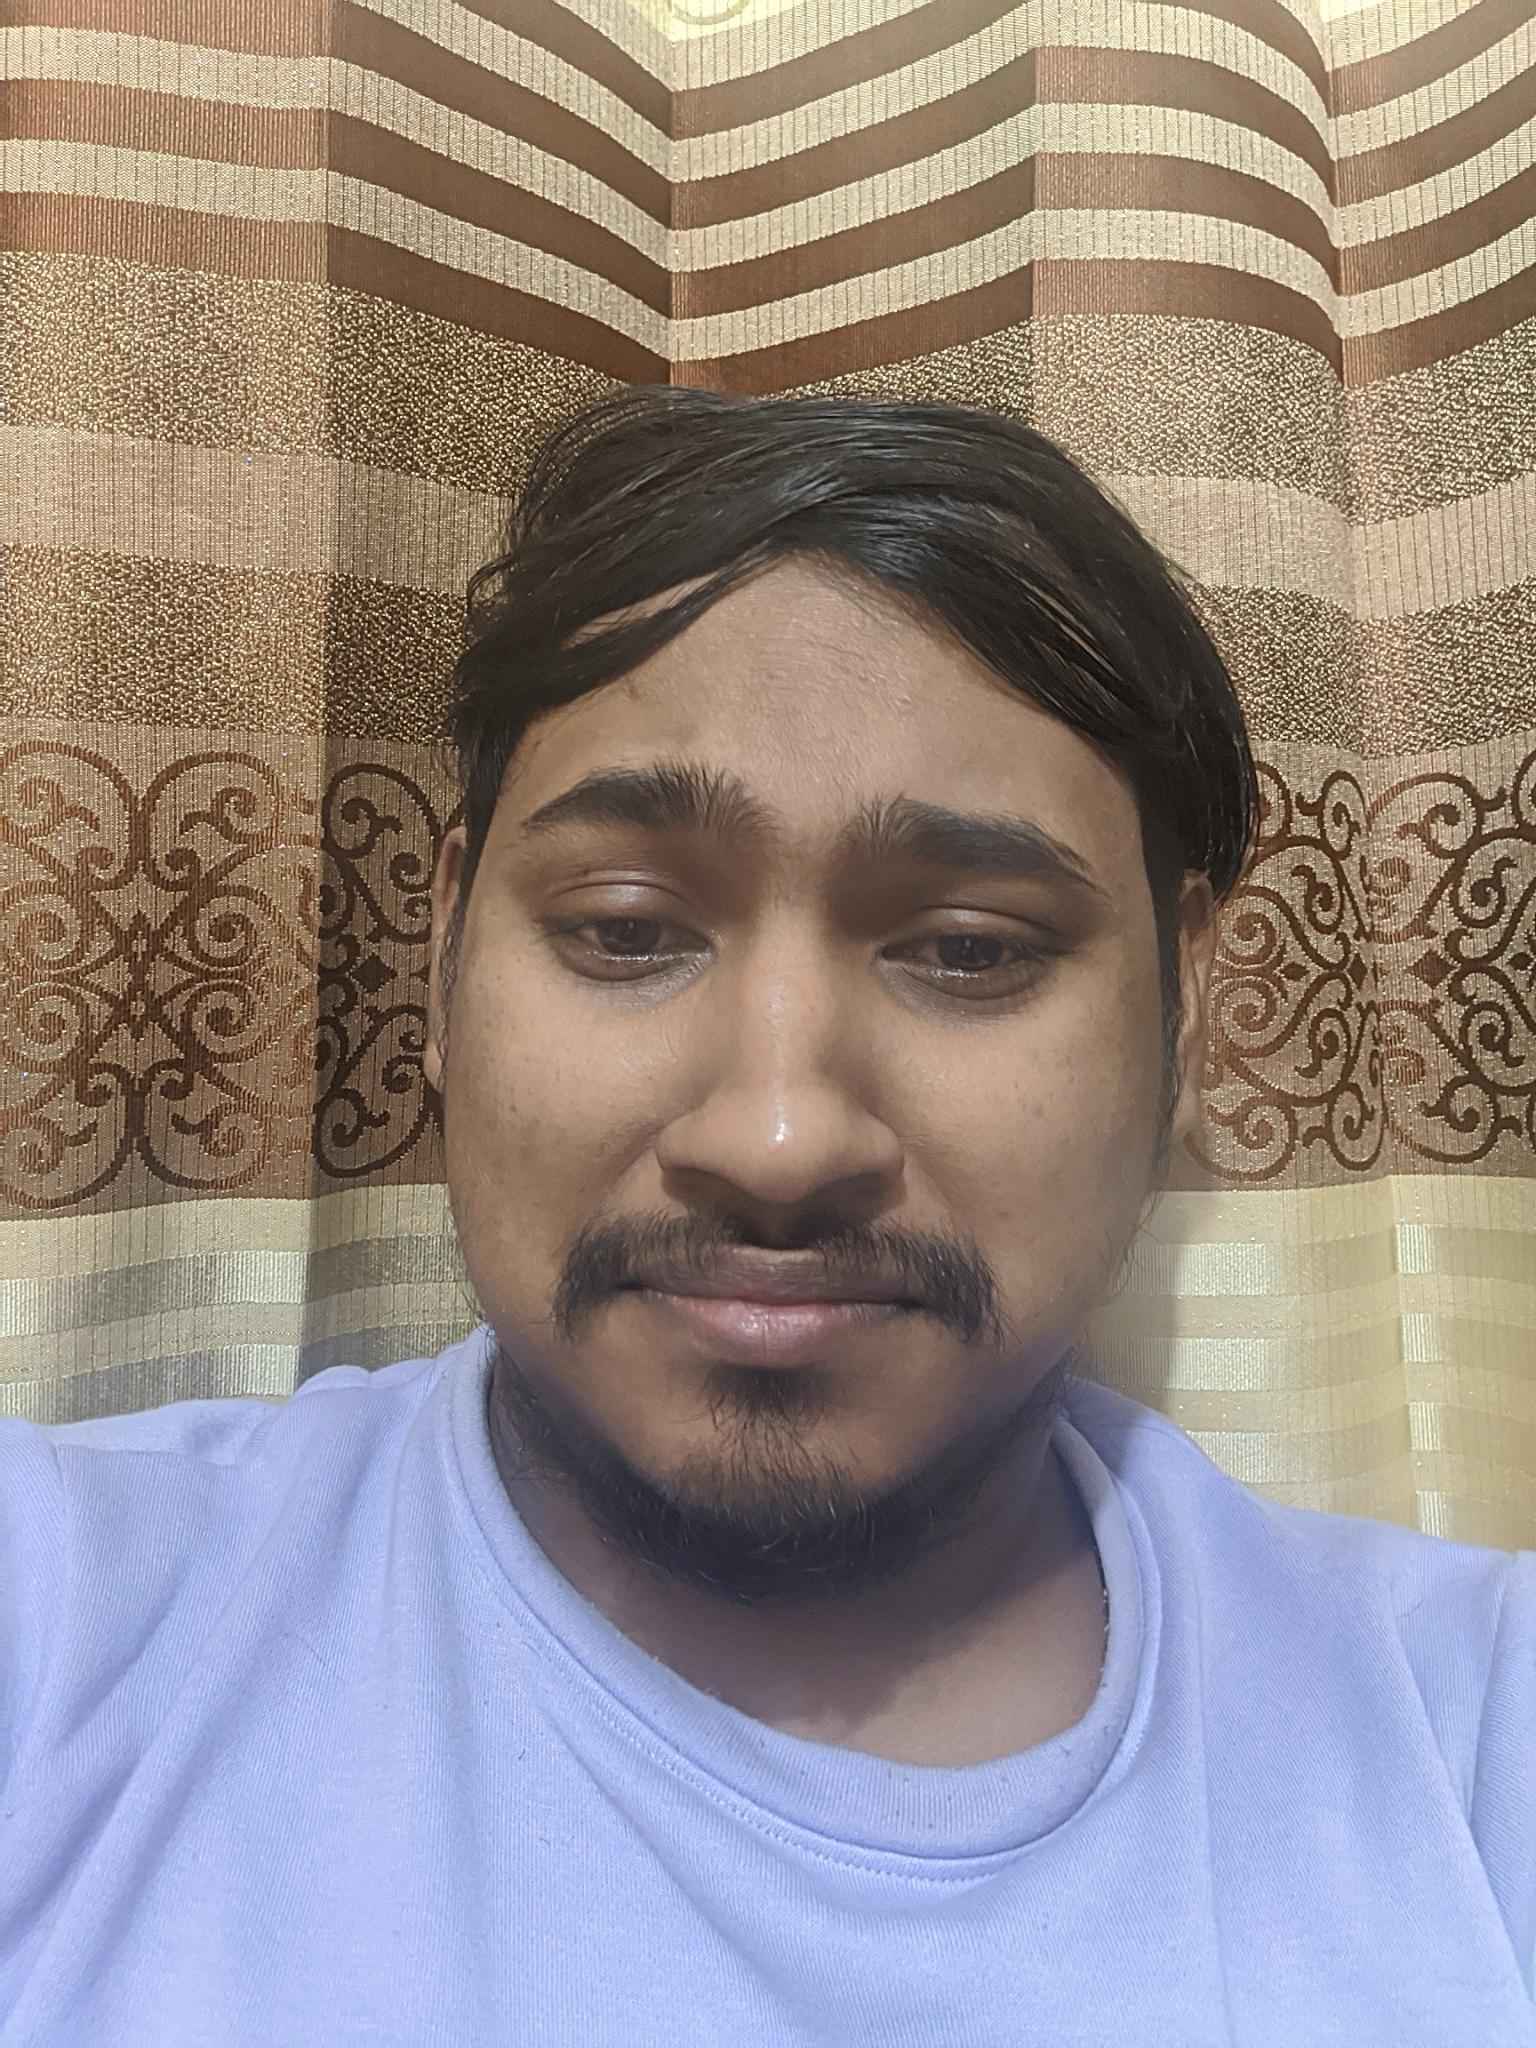Sad: (440, 698, 1150, 1511)
